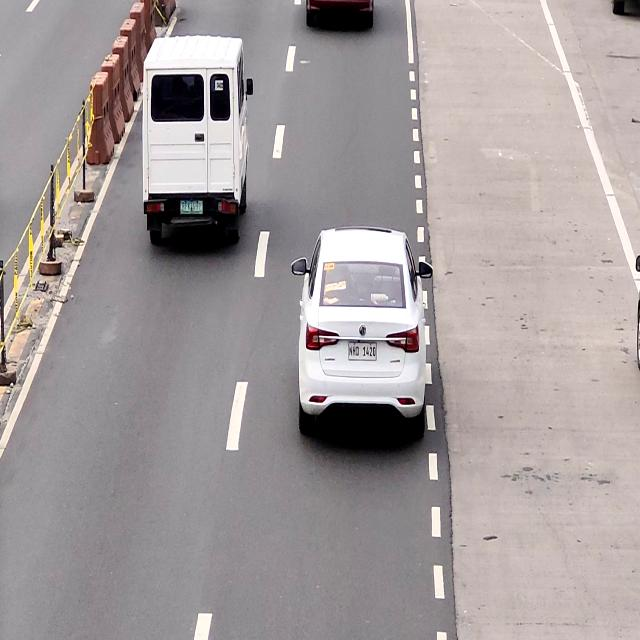Car: (299, 224, 427, 443), (146, 37, 246, 240)
License-Plate: (347, 341, 377, 360), (178, 198, 205, 219)
